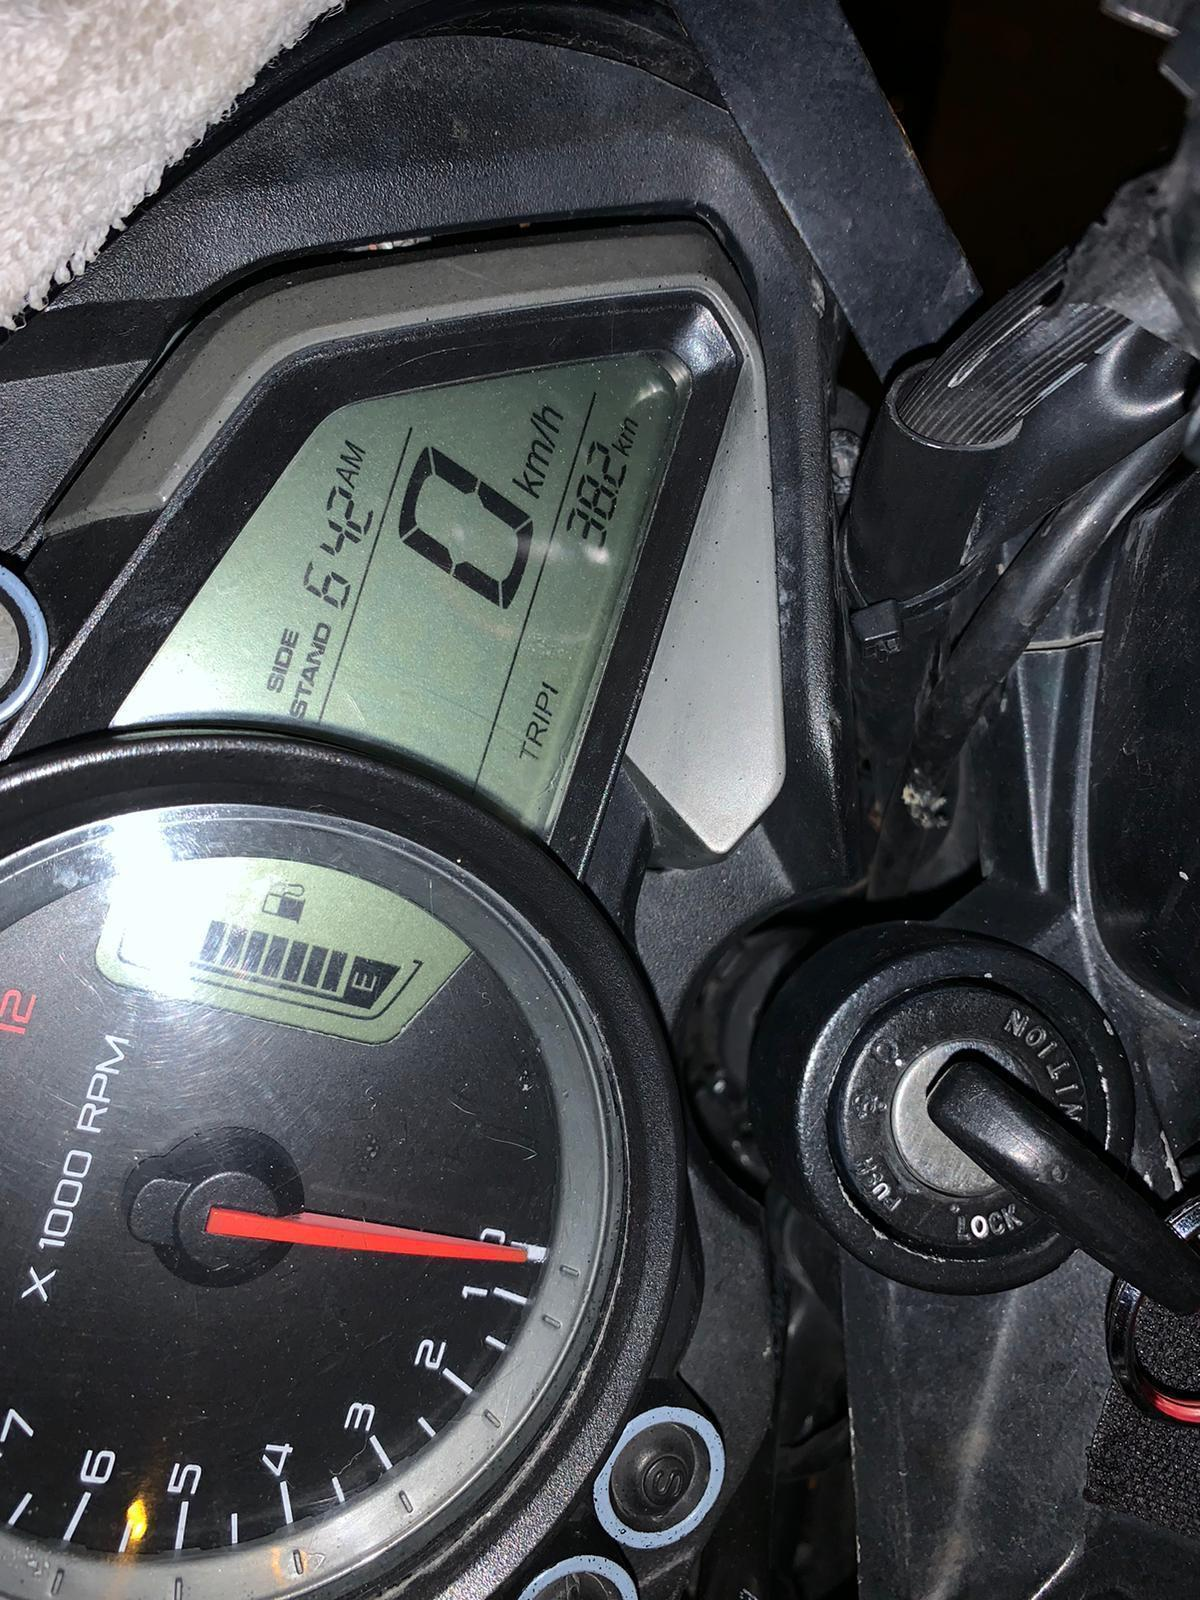,: (614, 489, 620, 494)
1: (539, 680, 560, 694)
2: (321, 486, 378, 530), (581, 440, 626, 486)
3: (563, 508, 608, 547)
4: (311, 517, 361, 557)
6: (296, 558, 352, 610)
8: (574, 474, 616, 517)
X: (527, 403, 568, 431), (522, 443, 551, 477), (337, 438, 368, 467), (511, 472, 545, 498), (526, 425, 555, 446), (531, 690, 553, 714), (303, 643, 328, 664), (332, 467, 358, 488), (522, 724, 546, 745), (618, 416, 637, 441), (297, 665, 321, 684), (277, 627, 299, 648), (311, 621, 332, 643), (287, 700, 308, 721), (271, 648, 292, 666), (516, 741, 536, 760), (292, 682, 313, 699), (263, 675, 285, 692), (528, 711, 550, 724), (610, 442, 633, 454), (267, 666, 289, 674)
odometer: (89, 339, 701, 1054)
